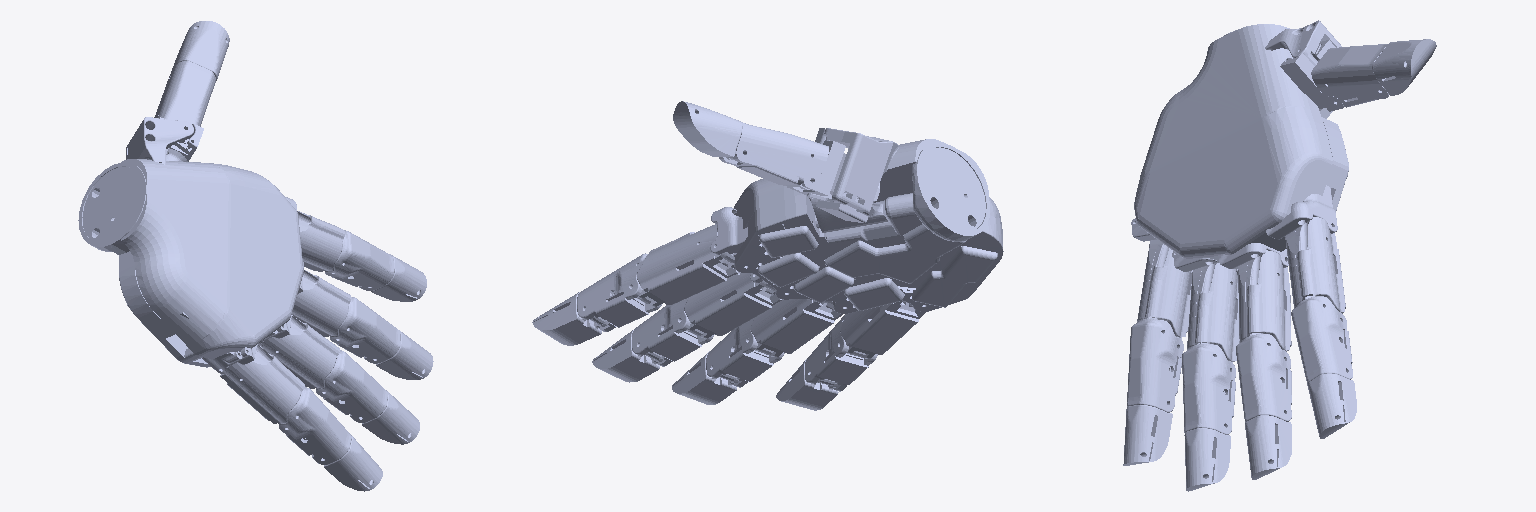
--- Facts derived from the render (not from the file) ---
The picture shows the robot from 3 angles, left to right: view 1: azimuth 30°, elevation 25°; view 2: azimuth 150°, elevation 25°; view 3: azimuth 270°, elevation 25°; orthographic projection.
Robot: franka_right_hand — 30 links, 29 joints (27 revolute, 2 fixed); root link panda_link0; default pose: all joints at 0 but 2 set to mid-range because 0 is outside their limits (panda_joint4 = -1.6, panda_joint6 = 2.53).
Links seen in each view (by area): view 1: HAND1, PINKY2, PINKY3, RING2, RING3, MIDDLE3, THUMB3, INDEX3, MIDDLE2, INDEX2, THUMB1, THUMB4 (+6 smaller); view 2: HAND1, THUMB1, INDEX2, THUMB3, MIDDLE2, RING2, INDEX3, PINKY2, MIDDLE3, THUMB4, RING3, PINKY3 (+6 smaller); view 3: HAND1, PINKY3, RING3, MIDDLE2, MIDDLE3, RING2, INDEX2, INDEX3, PINKY2, THUMB3, PINKY4, RING4 (+7 smaller).
Link boxes in pixels (box(x1,y1,x2,y2)): HAND1: box(78, 159, 303, 367); PINKY2: box(220, 345, 304, 423); PINKY3: box(279, 387, 351, 464); RING2: box(262, 315, 339, 388); RING3: box(316, 350, 387, 422); MIDDLE3: box(330, 297, 399, 363); THUMB3: box(154, 61, 215, 126); INDEX3: box(325, 230, 394, 290); MIDDLE2: box(292, 270, 351, 336); INDEX2: box(297, 211, 344, 271); THUMB1: box(126, 117, 193, 164); THUMB4: box(171, 21, 229, 80); HAND1: box(734, 139, 1003, 313); THUMB1: box(807, 128, 899, 232); INDEX2: box(637, 224, 737, 306); THUMB3: box(719, 122, 828, 190); MIDDLE2: box(684, 272, 781, 338); RING2: box(751, 299, 842, 356); INDEX3: box(577, 253, 661, 331); PINKY2: box(840, 301, 925, 358); MIDDLE3: box(632, 298, 714, 366); THUMB4: box(673, 101, 742, 159); RING3: box(706, 318, 784, 387); PINKY3: box(805, 314, 877, 391); HAND1: box(1134, 24, 1348, 268); PINKY3: box(1127, 319, 1183, 412); RING3: box(1182, 344, 1235, 434); MIDDLE2: box(1238, 250, 1291, 351); MIDDLE3: box(1236, 334, 1291, 422); RING2: box(1187, 263, 1239, 362); INDEX2: box(1285, 217, 1345, 313); INDEX3: box(1291, 296, 1352, 385); PINKY2: box(1137, 240, 1192, 339); THUMB3: box(1311, 44, 1388, 107); PINKY4: box(1123, 405, 1172, 465); RING4: box(1184, 428, 1230, 491).
Bounding box of the posed robot: 0.1941 × 0.1307 × 0.1903 m (x, y, z).
Meshes: 29 distinct files referenced, 21 mesh visuals loaded (21 Collada DAE); not drawn: 8 (reference not matched to a file when rendering).

URDF robot description (franka_right_hand):
<?xml version="1.0" ?>
<robot name="franka_right_hand" xmlns:xacro="http://www.ros.org/wiki/xacro">
  <link name="panda_link0">
    <visual>
      <geometry>
        <mesh filename="package://franka_gripper_description/meshes/visual/link0.dae"/>
      </geometry>
    </visual>
    <collision>
      <geometry>
        <mesh filename="package://franka_gripper_description/meshes/collision/link0.obj"/>
      </geometry>
    </collision> 
    <inertial>
      <origin rpy="0 0 0" xyz="-0.041018 -0.00014 0.049974"/>      
      <mass value="0.629769"/>
      <inertia ixx="0.00315" ixy="8.2904e-07" ixz="0.00015" iyy="0.00388" iyz="8.2299e-06" izz="0.004285"/>
    </inertial>   
  </link>

  <joint name="panda_joint1" type="revolute">
    <safety_controller k_position="100.0" k_velocity="40.0" soft_lower_limit="-2.8973" soft_upper_limit="2.8973"/>
    <origin rpy="0.0 0 0" xyz="0 0 0.333"/>
    <parent link="panda_link0"/>
    <child link="panda_link1"/>
    <axis xyz="0 0 1"/>
    <dynamics damping="10.0"/>
    <limit effort="87" lower="-2.7437" upper="2.7437" velocity="2.62"/>
  </joint>

  <link name="panda_link1">
    <visual>
      <geometry>
        <mesh filename="package://franka_gripper_description/meshes/visual/link1.dae"/>
      </geometry>
    </visual>
    <collision>
      <geometry>
        <mesh filename="package://franka_gripper_description/meshes/collision/link1.obj"/>
      </geometry>
    </collision>   
    <inertial>
      <origin rpy="0 0 0" xyz="0.003875 0.002081 -0.04762"/>
      <mass value="4.970684"/>
      <inertia ixx="0.70337" ixy="-0.000139" ixz="0.006772" iyy="0.70661" iyz="0.019169" izz="0.009117"/>
    </inertial> 
  </link>

  <joint name="panda_joint2" type="revolute">
    <safety_controller k_position="100.0" k_velocity="40.0" soft_lower_limit="-1.7628" soft_upper_limit="1.7628"/>
    <origin rpy="-1.57079632679 0 0" xyz="0 0 0"/>
    <parent link="panda_link1"/>
    <child link="panda_link2"/>
    <axis xyz="0 0 1"/>
    <dynamics damping="10.0"/>
    <limit effort="87" lower="-1.7837" upper="1.7837" velocity="2.62"/>
  </joint>

  <link name="panda_link2">
    <visual>
      <geometry>
        <mesh filename="package://franka_gripper_description/meshes/visual/link2.dae"/>
      </geometry>
    </visual>
    <collision>
      <geometry>
        <mesh filename="package://franka_gripper_description/meshes/collision/link2.obj"/>
      </geometry>
    </collision> 
    <inertial>
      <origin rpy="0 0 0" xyz="-0.003141 -0.02872  0.003495"/>
      <mass value="0.646926"/>
      <inertia ixx="0.007962" ixy="-0.003925" ixz="0.010254" iyy="0.02811" iyz="0.000704" izz="0.025995"/>
    </inertial>   
  </link>

  <joint name="panda_joint3" type="revolute">
    <safety_controller k_position="100.0" k_velocity="40.0" soft_lower_limit="-2.8973" soft_upper_limit="2.8973"/>
    <origin rpy="1.57079632679 0 0" xyz="0 -0.316 0"/>
    <parent link="panda_link2"/>
    <child link="panda_link3"/>
    <axis xyz="0 0 1"/>
    <dynamics damping="10.0"/>
    <limit effort="87" lower="-2.9007" upper="2.9007" velocity="2.62"/>
  </joint>

  <link name="panda_link3">
    <visual>
      <geometry>
        <mesh filename="package://franka_gripper_description/meshes/visual/link3.dae"/>
      </geometry>
    </visual>
    <collision>
      <geometry>
        <mesh filename="package://franka_gripper_description/meshes/collision/link3.obj"/>
      </geometry>
    </collision> 
    <inertial>
      <origin rpy="0 0 0" xyz="2.7518e-02 3.9252e-02 -6.6502e-02"/>
      <mass value="3.228604"/>
      <inertia ixx="0.037242" ixy="-0.004761" ixz="-0.011396" iyy="0.036155" iyz="-0.012805" izz="0.01083"/>
    </inertial>   
  </link>

  <joint name="panda_joint4" type="revolute">
    <safety_controller k_position="100.0" k_velocity="40.0" soft_lower_limit="-3.0718" soft_upper_limit="-0.0698"/>
    <origin rpy="1.57079632679 0 0" xyz="0.0825 0 0"/>
    <parent link="panda_link3"/>
    <child link="panda_link4"/>
    <axis xyz="0 0 1"/>
    <dynamics damping="10.0"/>
    <limit effort="87" lower="-3.0421" upper="-0.1518" velocity="2.62"/>
    <!-- <limit effort="87" lower="-3.0" upper="0.087" velocity="2.1750"/> -->
  </joint>

  <link name="panda_link4">
    <visual>
      <geometry>
        <mesh filename="package://franka_gripper_description/meshes/visual/link4.dae"/>
      </geometry>
    </visual>
    <collision>
      <geometry>
        <mesh filename="package://franka_gripper_description/meshes/collision/link4.obj"/>
      </geometry>
    </collision> 
    <inertial>
      <origin rpy="0 0 0" xyz="-5.317e-02 1.04419e-01 2.7454e-02"/>
      <mass value="3.587895"/>
      <inertia ixx="0.025853" ixy="0.007796" ixz="-0.001332" iyy="0.019552" iyz="0.008641" izz="0.028323"/>
    </inertial>   
  </link>

  <joint name="panda_joint5" type="revolute">
    <safety_controller k_position="100.0" k_velocity="40.0" soft_lower_limit="-2.8973" soft_upper_limit="2.8973"/>
    <origin rpy="-1.57079632679 0 0" xyz="-0.0825 0.384 0"/>
    <parent link="panda_link4"/>
    <child link="panda_link5"/>
    <axis xyz="0 0 1"/>
    <dynamics damping="10.0"/>
    <limit effort="12" lower="-2.8065" upper="2.8065" velocity="5.26"/>
  </joint>

  <link name="panda_link5">
    <visual>
      <geometry>
        <mesh filename="package://franka_gripper_description/meshes/visual/link5.dae"/>
      </geometry>
    </visual>
    <collision>
      <geometry>
        <mesh filename="package://franka_gripper_description/meshes/collision/link5.obj"/>
      </geometry>
    </collision>
    <inertial>
      <origin rpy="0 0 0" xyz="-1.1953e-02 4.1065e-02 -3.8437e-02"/>
      <mass value="1.225946"/>
      <inertia ixx="0.035549" ixy="-0.002117" ixz="-0.004037" iyy="0.029474" iyz="0.000229" izz="0.008627"/>
    </inertial>    
  </link>

  <joint name="panda_joint6" type="revolute">
    <safety_controller k_position="100.0" k_velocity="40.0" soft_lower_limit="-0.0175" soft_upper_limit="3.7525"/>
    <origin rpy="1.57079632679 0 0" xyz="0 0 0"/>
    <parent link="panda_link5"/>
    <child link="panda_link6"/>
    <axis xyz="0 0 1"/>
    <dynamics damping="10.0"/>
    <limit effort="12" lower="0.5445" upper="4.5169" velocity="4.18"/>    
  </joint>

  <link name="panda_link6">
    <visual>
      <geometry>
        <mesh filename="package://franka_gripper_description/meshes/visual/link6.dae"/>
      </geometry>
    </visual>
    <collision>
      <geometry>
        <mesh filename="package://franka_gripper_description/meshes/collision/link6.obj"/>
      </geometry>
    </collision> 
    <inertial>
      <origin rpy="0 0 0" xyz="6.0149e-02 -1.4117e-02 -1.0517e-02"/>
      <mass value="1.666555"/>
      <inertia ixx="0.001964" ixy="0.000109" ixz="-0.001158" iyy="0.004354" iyz="0.000341" izz="0.005433"/>
    </inertial>   
  </link>

  <joint name="panda_joint7" type="revolute">
    <safety_controller k_position="100.0" k_velocity="40.0" soft_lower_limit="-2.8973" soft_upper_limit="2.8973"/>    
    <origin rpy="1.57079632679 0.785398163 0.0" xyz="0.088 0 0"/>    
    <parent link="panda_link6"/>
    <child link="panda_link7"/>
    <axis xyz="0 0 1"/>
    <dynamics damping="10.0"/>
    <limit effort="12" lower="-3.0159" upper="3.0159" velocity="5.26"/>
  </joint>

  <link name="panda_link7">
    <visual>
      <geometry>
        <mesh filename="package://franka_gripper_description/meshes/visual/link7.dae"/>
      </geometry>
    </visual>
    <collision>
      <geometry>
        <mesh filename="package://franka_gripper_description/meshes/collision/link7.obj"/>
      </geometry>
    </collision> 
    <inertial>
      <origin rpy="0 0 0" xyz="1.0517e-02 -4.252e-03 6.1597e-02"/>
      <mass value="0.735522"/>
      <inertia ixx="0.012516" ixy="-0.000428" ixz="-0.001196" iyy="0.010027" iyz="-0.000741" izz="0.004815"/>
    </inertial>   
  </link>


  <!--=====================hand======================== -->

  <!--==================right hand===================== -->
  
  <joint name="HAND1J" type="fixed">
    <!--  <origin xyz="0.123206133630086 -0.0496010386911909 0.00266719553241919" rpy="3.11403590687517 -1.57049644148007 1.57079632703857"
      /> -->
    <origin xyz="0.004 -0.125 0.107" rpy="3.141592 0.0 0.0" />
    <parent link="panda_link7" />
    <child link="HAND1" />
    <axis xyz="0 0 1"/>
    <!-- <axis xyz="0.000299885310328677 -0.0275532577170168 0.999620291939885" /> -->
  </joint>

  <link name="HAND1">
    <inertial>
      <origin xyz="-0.00944207122503486 -0.132134169193478 -0.0565984897435919" rpy="0 0 0"/>      
      <mass value="0.217106528997262" />
      <inertia
        ixx="0.000145772870487374"
        ixy="-6.12360384839344E-07"
        ixz="1.53496515567793E-05"
        iyy="0.000252922412542795"
        iyz="1.37844709878627E-07"
        izz="0.00012214719798077" />
    </inertial>
    <collision>      
      <geometry>
        <mesh filename="package://franka_hand_description/meshes/collision/HANDR1.obj" />
      </geometry>
    </collision>
    <visual>     
      <geometry>
        <mesh filename="package://franka_hand_description/meshes/visual/HANDR1.dae" />
      </geometry>
      <material>
        <color rgba="0.792156862745098 0.819607843137255 0.933333333333333 1" />
      </material>
    </visual>    
  </link>
  
  <joint name="THUMB1J" type="revolute">
     <origin xyz="0.00621334040795378 -0.122328984014423 -0.0335202968132514" rpy="0.247924687844942 0.0686816067402885 -0.442618933410627" />
     <parent link="HAND1" />
    <child link="THUMB1" />
    <axis xyz="0.499740269148067 0.0238659525499447 -0.865846452727446" />
    <limit effort="87" lower="-0.5236" upper="0.5236" velocity="1.57" />
  </joint>  

  <link name="THUMB1">
    <inertial>
      <origin xyz="0.0187420851351881 0.00688961544395322 -0.000712752140737183" rpy="0 0 0" />
      <mass value="0.00983237332003834" />
      <inertia
        ixx="9.18108569623387E-07"
        ixy="-2.4021989667901E-07"
        ixz="3.11708344260631E-08"
        iyy="9.28638786921522E-07"
        iyz="-1.59558800394124E-07"
        izz="1.04638190991989E-06" />
    </inertial>
    <collision>      
      <geometry>
        <mesh filename="package://franka_hand_description/meshes/collision/THUMBR1.obj" />
      </geometry>
    </collision>
    <visual>      
      <geometry>
        <mesh filename="package://franka_hand_description/meshes/visual/THUMBR1.dae" />
      </geometry>
      <material>
        <color rgba="0.792156862745098 0.819607843137255 0.933333333333333 1" />
      </material>
    </visual>    
  </link>
  
  <joint name="THUMB2J" type="revolute">
     <origin xyz="0.0324314149877292 0.00967433071019672 -0.0071557311919429" rpy="-2.78680527593993 0.748281478831545 2.05827158249576" />
     <parent link="THUMB1" />
    <child link="THUMB2" />
    <axis xyz="1 0 0" />
    <limit effort="87" lower="0.0" upper="1.5708" velocity="1.57" />
  </joint>

  <link name="THUMB2">
    <inertial>
      <origin xyz="-0.00472323162010391 -0.00389167659169379 -0.00105639423867759" rpy="0 0 0" />
      <mass value="0.00395049843280144" />
      <inertia
        ixx="3.82201782153696E-07"
        ixy="8.47892932445636E-09"
        ixz="3.11205662548097E-08"
        iyy="3.6072057548207E-07"
        iyz="1.82856185977721E-08"
        izz="4.04511254733069E-07" />
    </inertial>
    <collision>      
      <geometry>
        <mesh filename="package://franka_hand_description/meshes/collision/THUMBR2.obj" />
      </geometry>
    </collision>
    <visual>      
      <geometry>
        <mesh filename="package://franka_hand_description/meshes/visual/THUMBR2.dae" />
      </geometry>
      <material>
        <color rgba="0.792156862745098 0.819607843137255 0.933333333333333 1" />
      </material>
    </visual>    
  </link>
  
  <joint name="THUMB3J" type="revolute">
     <origin xyz="0.00327852443644183 0.00699999999986699 0" rpy="-2.29005286554533 0.112712577984922 2.2175794328552" />
     <parent link="THUMB2" />
    <child link="THUMB3" />
    <axis xyz="0.112474077074287 0.747522175464064 0.654645078783733" />
    <limit effort="87" lower="0.0" upper="1.5708" velocity="1.57" />
  </joint>

  <link name="THUMB3">
    <inertial>
      <origin xyz="0.0141624335536208 0.00320216205286483 -0.00354037081543557" rpy="0 0 0" />
      <mass value="0.00956355378123469" />
      <inertia
        ixx="7.21708035477288E-07"
        ixy="-2.60501308259613E-07"
        ixz="4.00486586312433E-07"
        iyy="1.18860311266717E-06"
        iyz="2.48131106020918E-07"
        izz="1.00622252036016E-06" />
    </inertial>
    <visual>      
      <geometry>
        <mesh filename="package://franka_hand_description/meshes/visual/THUMBR3.dae" />
      </geometry>
      <material>
        <color rgba="0.792156862745098 0.819607843137255 0.933333333333333 1" />
      </material>
    </visual>
    <collision>      
      <geometry>
        <mesh filename="package://franka_hand_description/meshes/collision/THUMBR3.obj" />
      </geometry>
    </collision>
  </link>

  <joint name="THUMB4J" type="revolute">
     <origin xyz="0.0262155765581733 0.0161318613643788 -0.0115058913130295" rpy="-0.00483147051195364 -0.30623127774148 -0.267379620048197" />
     <parent link="THUMB3" />
    <child link="THUMB4" />
    <axis xyz="0.112474077074298 0.747522175464069 0.654645078783726" />
    <limit effort="87" lower="0.0" upper="1.5708" velocity="1.57" />
  </joint>
  
  <link name="THUMB4">
    <inertial>
      <origin xyz="0.00947132311489918 0.000682181511018579 -0.010719429303096" rpy="0 0 0" />
      <mass value="0.00647930525102177" />
      <inertia
        ixx="3.02255270490843E-07"
        ixy="-9.82850280218503E-08"
        ixz="1.38365353242557E-07"
        iyy="3.7596427932635E-07"
        iyz="9.98733839071995E-08"
        izz="3.08967806191018E-07" />
    </inertial>
    <visual>      
      <geometry>
        <mesh filename="package://franka_hand_description/meshes/visual/THUMBR4.dae" />
      </geometry>
      <material>
        <color rgba="0.792156862745098 0.819607843137255 0.933333333333333 1" />
      </material>
    </visual>
    <collision>      
      <geometry>
        <mesh filename="package://franka_hand_description/meshes/collision/THUMBR4.obj" />
      </geometry>
    </collision>
  </link>
  
  <joint name="INDEX1J" type="revolute">
     <origin xyz="0.0243836885329525 -0.118519033579236 -0.0991569586560392" rpy="-1.44892316447011 0.0275567464709469 -1.57079632679482" />
     <parent link="HAND1" />
    <child link="INDEX1" />
    <axis xyz="1 0 0" />
    <limit effort="87" lower="-0.2618" upper="0.2618" velocity="1.57" />
  </joint>

  <link name="INDEX1">
    <inertial>
      <origin xyz="0.00927216467786701 -0.00736255438369127 0.00263442748506684" rpy="0 0 0" />
      <mass value="0.00539210728970961" />
      <inertia
        ixx="6.96332514739936E-07"
        ixy="-1.19951092278294E-07"
        ixz="9.67354771017218E-09"
        iyy="3.98913701287038E-07"
        iyz="4.02851523151758E-08"
        izz="7.20038202340638E-07" />
    </inertial>
    <visual>      
      <geometry>
        <mesh filename="package://franka_hand_description/meshes/visual/INDEXR1.dae" />
      </geometry>
      <material>
        <color rgba="0.792156862745098 0.819607843137255 0.933333333333333 1" />
      </material>
    </visual>
    <collision>      
      <geometry>
        <mesh filename="package://franka_hand_description/meshes/collision/INDEXR1.obj" />
      </geometry>
    </collision>
  </link>
  
  <joint name="INDEX2J" type="revolute">
     <origin xyz="0.0039999999998841 0.00600000000001322 -0.00483963827019299" rpy="-0.0275567464697796 -1.51554062663406 1.30952660485574" />
     <parent link="INDEX1" />
    <child link="INDEX2" />
    <axis xyz="0.998473792176333 -0.00152169999888833 0.0552066188615644" />
    <limit effort="87" lower="0.0" upper="1.5708" velocity="1.57" />
  </joint>

  <link name="INDEX2">
    <inertial>
      <origin xyz="0.00928702364645922 0.00204516333539506 -0.0191298797061434" rpy="0 0 0" />
      <mass value="0.0090779018555249" />
      <inertia
        ixx="1.78060880748242E-06"
        ixy="-1.64949482486689E-08"
        ixz="6.1576601061E-08"
        iyy="1.52472219242911E-06"
        iyz="4.79277084010678E-07"
        izz="4.2393661994771E-07" />
    </inertial>
    <visual>      
      <geometry>
        <mesh filename="package://franka_hand_description/meshes/visual/INDEXR2.dae" />
      </geometry>
      <material>
        <color rgba="0.792156862745098 0.819607843137255 0.933333333333333 1" />
      </material>
    </visual>
    <collision>      
      <geometry>
        <mesh filename="package://franka_hand_description/meshes/collision/INDEXR2.obj" />
      </geometry>
    </collision>
  </link>
  
  <joint name="INDEX3J" type="revolute">
     <origin xyz="0.00728650450731841 0.0130928317322465 -0.043759647026469" rpy="-0.143223649730255 -0.000348596102990445 -0.00790757275870851" />
     <parent link="INDEX2" />
    <child link="INDEX3" />
    <axis xyz="0.998473792176333 -0.00152169999888655 0.0552066188615676" />
    <limit effort="87" lower="0.0" upper="2.0944" velocity="1.57" />
  </joint>

  <link name="INDEX3">
    <inertial>
      <origin xyz="0.00200979558861744 -0.000310672280613988 -0.0102865548645768" rpy="0 0 0" />
      <mass value="0.00559373124369676" />
      <inertia
        ixx="6.44562473188833E-07"
        ixy="-7.68945200961214E-09"
        ixz="2.25815629309012E-08"
        iyy="4.60816674633764E-07"
        iyz="1.93962033914875E-07"
        izz="2.67104886594353E-07" />
    </inertial>
    <visual>      
      <geometry>
        <mesh filename="package://franka_hand_description/meshes/visual/INDEXR3.dae" />
      </geometry>
      <material >
        <color rgba="0.792156862745098 0.819607843137255 0.933333333333333 1" />
      </material>
    </visual>
    <collision>      
      <geometry>
        <mesh filename="package://franka_hand_description/meshes/collision/INDEXR3.obj" />
      </geometry>
    </collision>
  </link>
  
  <joint name="INDEX4J" type="revolute">
     <origin xyz="0.00126915130516614 0.0104723531609593 -0.0226653716986231" rpy="-0.296160838572226 -0.00196246584718096 -0.0162035577982576" />
     <parent link="INDEX3" />
    <child link="INDEX4" />
    <axis xyz="0.998473792176334 -0.00152169999887655 0.0552066188615475" />
    <limit effort="87" lower="0.0" upper="1.5708" velocity="1.57" />
  </joint>
  
  <link name="INDEX4">
    <inertial>
      <origin xyz="0.0028691035617554 0.00518814071108809 -0.0113084018799451" rpy="0 0 0" />
      <mass value="0.00508790312866893" />
      <inertia
        ixx="3.21881257857105E-07"
        ixy="-5.57062569863654E-09"
        ixz="9.52598210949389E-09"
        iyy="2.32603775314845E-07"
        iyz="1.10457269700153E-07"
        izz="1.35607894060306E-07" />
    </inertial>
    <visual>      
      <geometry>
        <mesh filename="package://franka_hand_description/meshes/visual/INDEXR4.dae" />
      </geometry>
      <material >
        <color rgba="0.792156862745098 0.819607843137255 0.933333333333333 1" />
      </material>
    </visual>
    <collision>      
      <geometry>
        <mesh filename="package://franka_hand_description/meshes/collision/INDEXR4.obj" />
      </geometry>
    </collision>
  </link>

  <joint name="MIDDLE1J" type="revolute">
     <origin xyz="-0.00269713137883915 -0.118409643161412 -0.103125595782582" rpy="-1.57109621210972 0.0275567464709469 -1.57079632679482" />
     <parent link="HAND1" />
    <child link="MIDDLE1" />
    <axis xyz="1 0 0" />
    <limit effort="87" lower="-0.2618" upper="0.2618" velocity="1.57" />
  </joint>
  
  <link name="MIDDLE1">
    <inertial>
      <origin xyz="0.00927218960667975 -0.00736255951329223 0.00263444849552316" rpy="0 0 0" />
      <mass value="0.0053921042997982" />
      <inertia
        ixx="6.96332770882621E-07"
        ixy="-1.19950927731283E-07"
        ixz="9.67413311524523E-09"
        iyy="3.98913906662263E-07"
        iyz="4.02843489616962E-08"
        izz="7.20037694641143E-07" />
    </inertial>
    <visual>      
      <geometry>
        <mesh filename="package://franka_hand_description/meshes/visual/MIDDLER1.dae" />
      </geometry>
      <material >
        <color rgba="0.792156862745098 0.819607843137255 0.933333333333333 1" />
      </material>
    </visual>
    <collision>      
      <geometry>
        <mesh filename="package://franka_hand_description/meshes/collision/MIDDLER1.obj" />
      </geometry>
    </collision>
  </link>
  
  <joint name="MIDDLE2J" type="revolute">
     <origin xyz="0.00399999999998568 0.00599999999997824 -0.010022996553767" rpy="-0.0275567464696519 -1.51554062663406 1.30952660485561" />
     <parent link="MIDDLE1" />
    <child link="MIDDLE2" />
    <axis xyz="0.998473792176333 -0.00152169999887578 0.0552066188615738" />
    <limit effort="87" lower="0.0" upper="1.5708" velocity="1.57" />
  </joint>

  <link name="MIDDLE2">
    <inertial>
      <origin xyz="0.0144624671115485 0.0020372802793287 -0.0188437215195482" rpy="0 0 0" />
      <mass value="0.00907789657971918" />
      <inertia
        ixx="1.7806078906079E-06"
        ixy="-1.64951026675618E-08"
        ixz="6.15766353143045E-08"
        iyy="1.52472153349058E-06"
        iyz="4.79276941607879E-07"
        izz="4.2393631456902E-07" />
    </inertial>
    <visual>      
      <geometry>
        <mesh filename="package://franka_hand_description/meshes/visual/MIDDLER2.dae" />
      </geometry>
      <material >
        <color rgba="0.792156862745098 0.819607843137255 0.933333333333333 1" />
      </material>
    </visual>
    <collision>      
      <geometry>
        <mesh filename="package://franka_hand_description/meshes/collision/MIDDLER2.obj" />
      </geometry>
    </collision>
  </link>
  
  <joint name="MIDDLE3J" type="revolute">
     <origin xyz="0.00314285513658233 0.0130991467616474 -0.0439887535621415" rpy="-0.143223649730269 -0.000348596103006336 -0.00790757275871161" />
     <parent link="MIDDLE2" />
    <child link="MIDDLE3" />
    <axis xyz="0.998473792176333 -0.00152169999887896 0.0552066188615596" />
    <limit effort="87" lower="0.0" upper="2.0944" velocity="1.57" />
  </joint>

  <link name="MIDDLE3">
    <inertial>
      <origin xyz="0.0113288920213057 -0.000324882104943636 -0.00977129344200395" rpy="0 0 0" />
      <mass value="0.00559373363297452" />
      <inertia
        ixx="6.44561795006018E-07"
        ixy="-7.6894820148007E-09"
        ixz="2.258144103613E-08"
        iyy="4.60816071866007E-07"
        iyz="1.93962398291335E-07"
        izz="2.67104870686469E-07" />
    </inertial>
    <visual>      
      <geometry>
        <mesh filename="package://franka_hand_description/meshes/visual/MIDDLER3.dae" />
      </geometry>
      <material >
        <color rgba="0.792156862745098 0.819607843137255 0.933333333333333 1" />
      </material>
    </visual>
    <collision>      
      <geometry>
        <mesh filename="package://franka_hand_description/meshes/collision/MIDDLER3.obj" />
      </geometry>
    </collision>
  </link>
  
  <joint name="MIDDLE4J" type="revolute">
     <origin xyz="0.00320931061366655 0.0104693963077812 -0.0225580983417058" rpy="-0.296160838572289 -0.00196246584718817 -0.0162035577982599" />
     <parent link="MIDDLE3" />
    <child link="MIDDLE4" />
    <axis xyz="0.998473792176334 -0.00152169999887806 0.0552066188615491" />
    <limit effort="87" lower="0.0" upper="1.5708" velocity="1.57" />
  </joint>

  <link name="MIDDLE4">
    <inertial>
      <origin xyz="0.0100483486014899 0.00517719920828608 -0.0109114569257016" rpy="0 0 0" />
      <mass value="0.00508790400017489" />
      <inertia
        ixx="3.21881486702424E-07"
        ixy="-5.5706481717494E-09"
        ixz="9.52611194165713E-09"
        iyy="2.32603880025707E-07"
        iyz="1.10457297293756E-07"
        izz="1.35607807158186E-07" />
    </inertial>
    <visual>      
      <geometry>
        <mesh filename="package://franka_hand_description/meshes/visual/MIDDLER4.dae" />
      </geometry>
      <material >
        <color rgba="0.792156862745098 0.819607843137255 0.933333333333333 1" />
      </material>
    </visual>
    <collision>      
      <geometry>
        <mesh filename="package://franka_hand_description/meshes/collision/MIDDLER4.obj" />
      </geometry>
    </collision>
  </link>
  
  <joint name="RING1J" type="revolute">
     <origin xyz="-0.0283744257417027 -0.118624171901002 -0.0953425858233096" rpy="-1.69326925974932 0.0275567464709636 -1.57079632679482" />
     <parent link="HAND1" />
    <child link="RING1" />
    <axis xyz="1 0 0" />
    <limit effort="87" lower="-0.2618" upper="0.2618" velocity="1.57" />
  </joint>

  <link name="RING1">
    <inertial>
      <origin xyz="0.00927219466813378 -0.00736255893218984 0.0026344525780385" rpy="0 0 0" />
      <mass value="0.00539210488366946" />
      <inertia
        ixx="6.96333040072895E-07"
        ixy="-1.19950877896622E-07"
        ixz="9.67424901850695E-09"
        iyy="3.98913851630891E-07"
        iyz="4.02840724690976E-08"
        izz="7.20037824335811E-07" />
    </inertial>
    <visual>      
      <geometry>
        <mesh filename="package://franka_hand_description/meshes/visual/RINGR1.dae" />
      </geometry>
      <material >
        <color rgba="0.792156862745098 0.819607843137255 0.933333333333333 1" />
      </material>
    </visual>
    <collision>      
      <geometry>
        <mesh filename="package://franka_hand_description/meshes/collision/RINGR1.obj" />
      </geometry>
    </collision>
  </link>

  <joint name="RING2J" type="revolute">
     <origin xyz="0.00399999999999201 0.00600000000000378 0" rpy="-0.0275567464696718 -1.51554062663406 1.30952660485561" />
     <parent link="RING1" />
    <child link="RING2" />
    <axis xyz="0.998473792176333 -0.0015216999988882 0.0552066188615665" />
    <limit effort="87" lower="0.0" upper="1.5708" velocity="1.57" />
  </joint>
  
  <link name="RING2">
    <inertial>
      <origin xyz="0.00445477093874799 0.00205252799485744 -0.019397059780355" rpy="0 0 0" />
      <mass value="0.00907790219906855" />
      <inertia
        ixx="1.78060922272979E-06"
        ixy="-1.64948844171482E-08"
        ixz="6.15766262701701E-08"
        iyy="1.52472263844879E-06"
        iyz="4.79277184134834E-07"
        izz="4.23936751612349E-07" />
    </inertial>
    <visual>      
      <geometry>
        <mesh filename="package://franka_hand_description/meshes/visual/RINGR2.dae" />
      </geometry>
      <material >
        <color rgba="0.792156862745098 0.819607843137255 0.933333333333333 1" />
      </material>
    </visual>
    <collision>      
      <geometry>
        <mesh filename="package://franka_hand_description/meshes/collision/RINGR2.obj" />
      </geometry>
    </collision>
  </link>
  
  <joint name="RING3J" type="revolute">
     <origin xyz="0.00245425253091612 0.0131001962098944 -0.0440268270918565" rpy="-0.143223649730268 -0.000348596103001839 -0.00790757275870675" />
     <parent link="RING2" />
    <child link="RING3" />
    <axis xyz="0.998473792176333 -0.00152169999888348 0.0552066188615599" />
    <limit effort="87" lower="0.0" upper="2.0944" velocity="1.57" />
  </joint>

  <link name="RING3">
    <inertial>
      <origin xyz="0.00200979525921793 -0.000310675227575108 -0.0102865594172525" rpy="0 0 0" />
      <mass value="0.00559373085781695" />
      <inertia
        ixx="6.44561634064499E-07"
        ixy="-7.68957607025156E-09"
        ixz="2.25813617645585E-08"
        iyy="4.60816055084658E-07"
        iyz="1.93962320189275E-07"
        izz="2.67104746690367E-07" />
    </inertial>
    <visual>      
      <geometry>
        <mesh filename="package://franka_hand_description/meshes/visual/RINGR3.dae" />
      </geometry>
      <material >
        <color rgba="0.792156862745098 0.819607843137255 0.933333333333333 1" />
      </material>
    </visual>
    <collision>      
      <geometry>
        <mesh filename="package://franka_hand_description/meshes/collision/RINGR3.obj" />
      </geometry>
    </collision>
  </link>
  
  <joint name="RING4J" type="revolute">
     <origin xyz="-0.00556886458401787 0.0104827744734095 -0.023043452466009" rpy="-0.296160838572283 -0.00196246584719336 -0.0162035577982631" />
     <parent link="RING3" />
    <child link="RING4" />
    <axis xyz="0.998473792176334 -0.00152169999888338 0.0552066188615389" />
    <limit effort="87" lower="0.0" upper="1.5708" velocity="1.57" />
  </joint>

  <link name="RING4">
    <inertial>
      <origin xyz="0.00970712140333464 0.00517772032091524 -0.0109303216897119" rpy="0 0 0" />
      <mass value="0.00508790326185953" />
      <inertia
        ixx="3.21881267515535E-07"
        ixy="-5.57066657488561E-09"
        ixz="9.52597980541941E-09"
        iyy="2.3260382657139E-07"
        iyz="1.10457302895767E-07"
        izz="1.3560792664375E-07" />
    </inertial>
    <visual>      
      <geometry>
        <mesh filename="package://franka_hand_description/meshes/visual/RINGR4.dae" />
      </geometry>
      <material >
        <color rgba="0.792156862745098 0.819607843137255 0.933333333333333 1" />
      </material>
    </visual>
    <collision>      
      <geometry>
        <mesh filename="package://franka_hand_description/meshes/collision/RINGR4.obj" />
      </geometry>
    </collision>
  </link>
  
  <joint name="PINKY1J" type="revolute">
     <origin xyz="-0.0518281889899361 -0.119247995974902 -0.0727105177227392" rpy="-1.81544230738892 0.0275567464709469 -1.57079632679482" />
     <parent link="HAND1" />
    <child link="PINKY1" />
    <axis xyz="1 0 0" />
    <limit effort="87" lower="-0.2618" upper="0.2618" velocity="1.57" />
  </joint>

  <link name="PINKY1">
    <inertial>
      <origin xyz="0.00927219023129955 -0.00736255739833702 0.00263444925595474" rpy="0 0 0" />
      <mass value="0.00539210539266023" />
      <inertia
        ixx="6.96333288665564E-07"
        ixy="-1.19950840661636E-07"
        ixz="9.67417124456819E-09"
        iyy="3.98913790344658E-07"
        iyz="4.02840815878438E-08"
        izz="7.2003801555904E-07" />
    </inertial>
    <visual>      
      <geometry>
        <mesh filename="package://franka_hand_description/meshes/visual/PINKYR1.dae" />
      </geometry>
      <material >
        <color rgba="0.792156862745098 0.819607843137255 0.933333333333333 1" />
      </material>
    </visual>
    <collision>      
      <geometry>
        <mesh filename="package://franka_hand_description/meshes/collision/PINKYR1.obj" />
      </geometry>
    </collision>
  </link>

  <joint name="PINKY2J" type="revolute">
     <origin xyz="0.00399999999999501 0.00599999999999645 0" rpy="-0.0275567464693832 -1.51554062663406 1.30952660485533" />
     <parent link="PINKY1" />
    <child link="PINKY2" />
    <axis xyz="0.998473792176333 -0.00152169999886363 0.0552066188615672" />
    <limit effort="87" lower="0.0" upper="1.5708" velocity="1.57" />
  </joint>
  
  <link name="PINKY2">
    <inertial>
      <origin xyz="0.00425508070057012 0.00205282977580634 -0.0194081061024169" rpy="0 0 0" />
      <mass value="0.00907790418420795" />
      <inertia
        ixx="1.7806100176559E-06"
        ixy="-1.64946694778048E-08"
        ixz="6.15766494673663E-08"
        iyy="1.52472327311298E-06"
        iyz="4.7927730810919E-07"
        izz="4.23937136725609E-07" />
    </inertial>
    <visual>      
      <geometry>
        <mesh filename="package://franka_hand_description/meshes/visual/PINKYR2.dae" />
      </geometry>
      <material >
        <color rgba="0.792156862745098 0.819607843137255 0.933333333333333 1" />
      </material>
    </visual>
    <collision>      
      <geometry>
        <mesh filename="package://franka_hand_description/meshes/collision/PINKYR2.obj" />
      </geometry>
    </collision>
  </link>
  
  <joint name="PINKY3J" type="revolute">
     <origin xyz="0.00245425253091608 0.0131001962099048 -0.0440268270918592" rpy="-0.143223649730263 -0.000348596102987434 -0.00790757275869532" />
     <parent link="PINKY2" />
    <child link="PINKY3" />
    <axis xyz="0.998473792176333 -0.00152169999887945 0.0552066188615735" />
    <limit effort="87" lower="0.0" upper="2.0944" velocity="1.57" />
  </joint>

  <link name="PINKY3">
    <inertial>
      <origin xyz="0.00161040672709278 -0.000310067383871293 -0.0103086433971734" rpy="0 0 0" />
      <mass value="0.00559373054797803" />
      <inertia
        ixx="6.44561600243224E-07"
        ixy="-7.68953487890685E-09"
        ixz="2.25813579725662E-08"
        iyy="4.60816054718861E-07"
        iyz="1.93962393053197E-07"
        izz="2.67104728639613E-07" />
    </inertial>
    <visual>      
      <geometry>
        <mesh filename="package://franka_hand_description/meshes/visual/PINKYR3.dae" />
      </geometry>
      <material >
        <color rgba="0.792156862745098 0.819607843137255 0.933333333333333 1" />
      </material>
    </visual>
    <collision>      
      <geometry>
        <mesh filename="package://franka_hand_description/meshes/collision/PINKYR3.obj" />
      </geometry>
    </collision>
  </link>
  
  <joint name="PINKY4J" type="revolute">
     <origin xyz="0.0113658846297238 0.0104569654771134 -0.0221071131715794" rpy="-0.296160838572292 -0.00196246584718176 -0.0162035577982563" />
     <parent link="PINKY3" />
    <child link="PINKY4" />
    <axis xyz="0.998473792176334 -0.00152169999887439 0.0552066188615554" />
    <limit effort="87" lower="0.0" upper="1.5708" velocity="1.57" />
  </joint>

  <link name="PINKY4">
    <inertial>
      <origin xyz="-0.00762701743341609 0.00520413978176515 -0.0118887425236366" rpy="0 0 0" />
      <mass value="0.00508790204089522" />
      <inertia
        ixx="3.21881097290298E-07"
        ixy="-5.57071131969144E-09"
        ixz="9.52590589204744E-09"
        iyy="2.32603822627408E-07"
        iyz="1.10457333019938E-07"
        izz="1.35608008533503E-07" />
    </inertial>
    <visual>      
      <geometry>
        <mesh filename="package://franka_hand_description/meshes/visual/PINKYR4.dae" />
      </geometry>
      <material >
        <color rgba="0.792156862745098 0.819607843137255 0.933333333333333 1" />
      </material>
    </visual>
    <collision>      
      <geometry>
        <mesh filename="package://franka_hand_description/meshes/collision/PINKYR4.obj" />
      </geometry>
    </collision>
  </link>

  <joint name="PALM1J" type="fixed">
        <parent link="HAND1"/>
        <child link="PALM1"/>        
        <origin rpy="0 0 0" xyz="0 -0.10 -0.05"/>
  </joint>  
  <link name="PALM1"/>
  
</robot>
